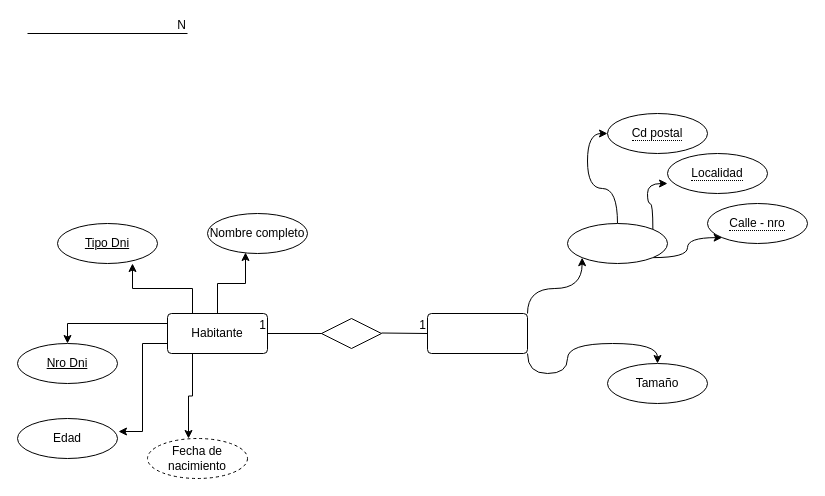
Some shapes in this 825 by 496 pixel diagram are drawn without their labels. Each missing label, with the box of its shape:
Alquila: (320, 318, 382, 348)
Direccion: (566, 222, 668, 264)
Vivienda: (426, 312, 528, 354)
